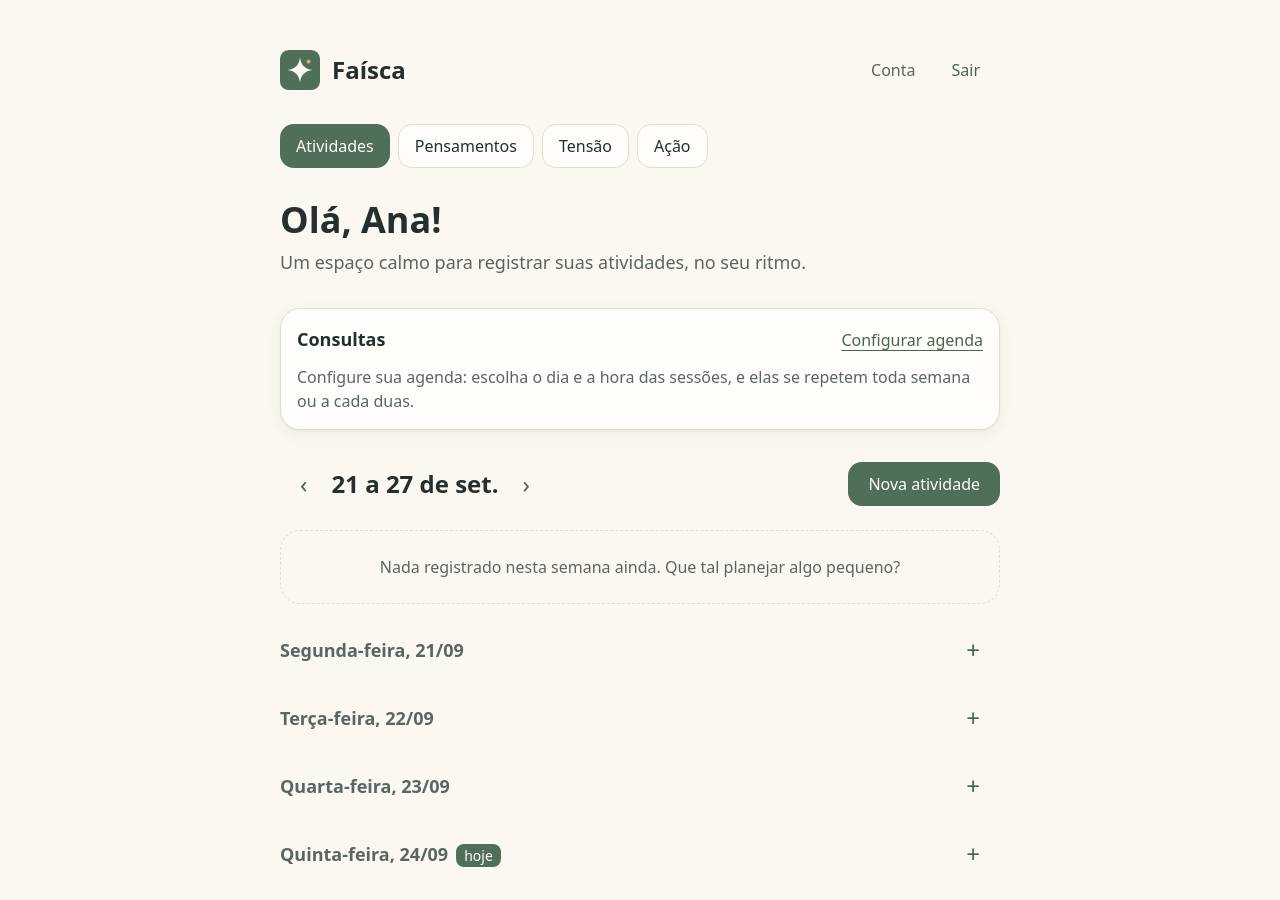
RecordsPage: nova atividade › o "+" de um dia abre o formulário já com aquela data
The width and height of the screenshot is (1280, 900).
Click the button named "Adicionar atividade em segunda-feira, 21/09" at (973, 650), box [946, 628, 1000, 672]
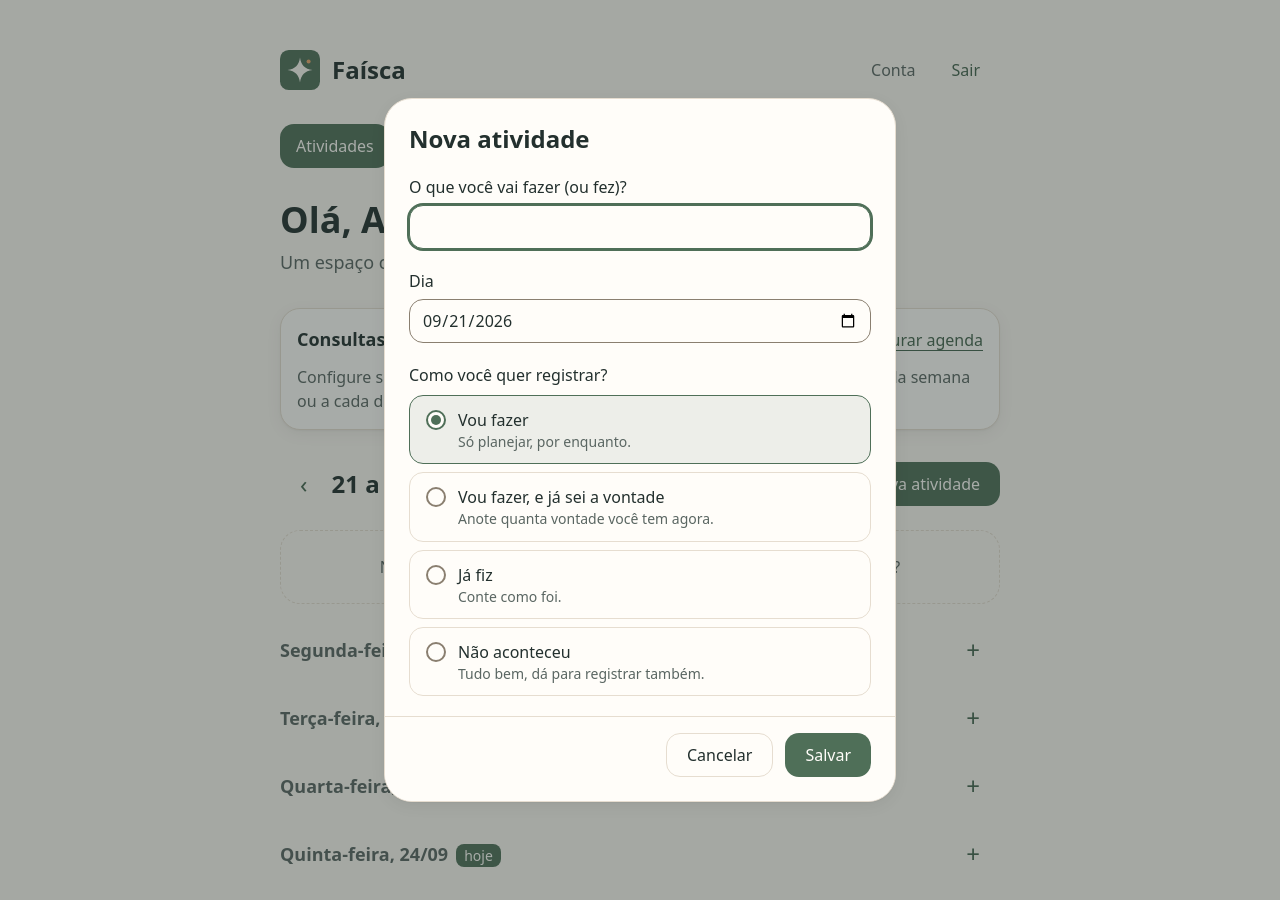
expect the date field labelled "Dia" holds "2026-09-21": met, box [409, 299, 871, 343]
